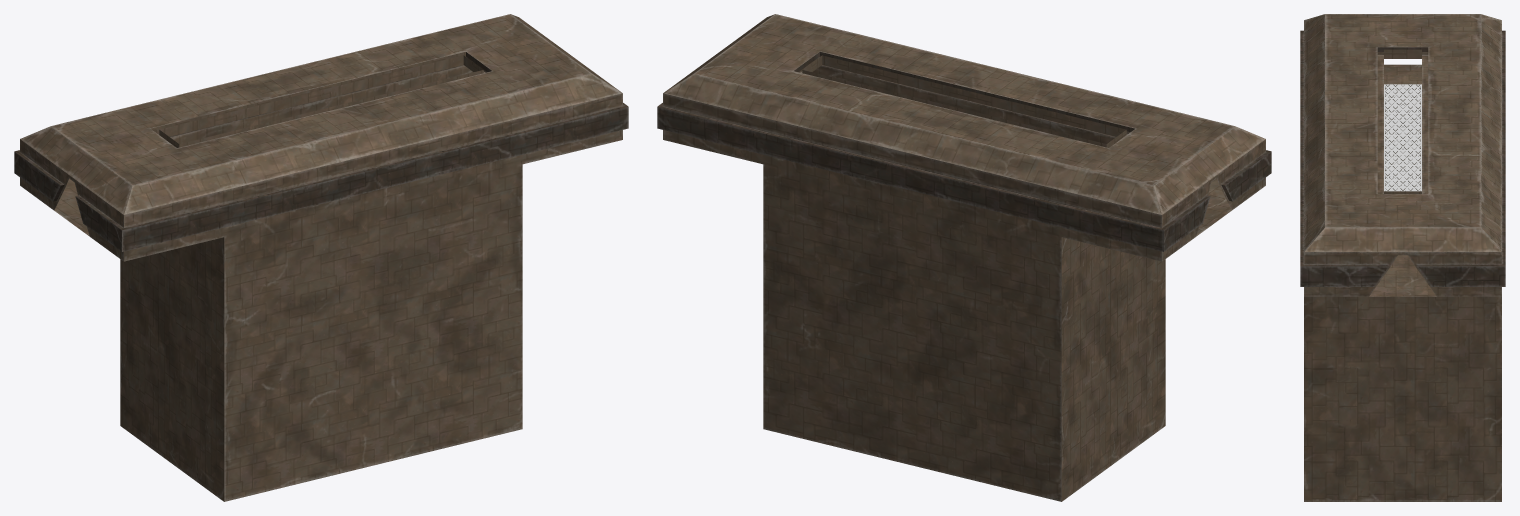
3 renders of one model, left to right at view 1: azimuth 30°, elevation 25°; view 2: azimuth 150°, elevation 25°; view 3: azimuth 270°, elevation 25°, orthographic. The views are drawn at different scales.
Parts seen in each view (by area): view 1: nivel baldosa low pieza 1; view 2: nivel baldosa low pieza 1; view 3: nivel baldosa low pieza 1, nivel baldosa low pieza 2, baldosa celda low.
Boxes of the visible parts, x1=… form: nivel baldosa low pieza 1: x1=14, y1=14, x2=628, y2=501; nivel baldosa low pieza 1: x1=657, y1=14, x2=1271, y2=501; nivel baldosa low pieza 1: x1=1300, y1=14, x2=1505, y2=501; nivel baldosa low pieza 2: x1=1384, y1=84, x2=1421, y2=191; baldosa celda low: x1=1385, y1=84, x2=1420, y2=190.
Bounding box in the file's own units: 2536 × 1568 × 935.
